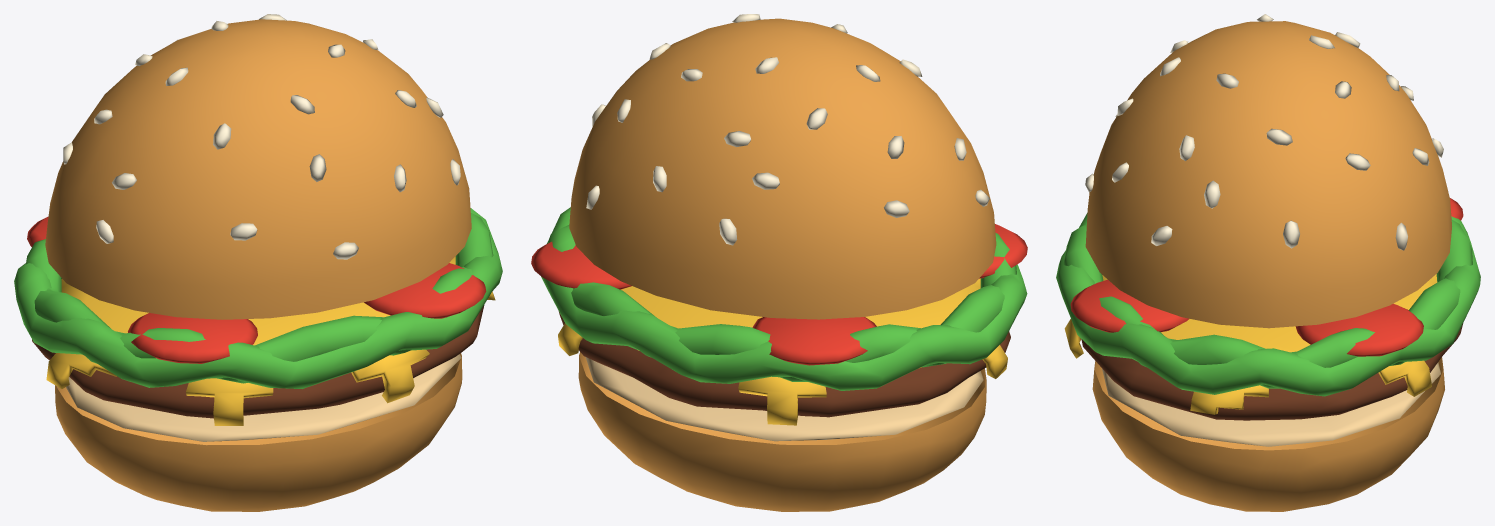
Rendered from tb_mat_burger.glb.
3 renders of one model, left to right at view 1: azimuth 30°, elevation 25°; view 2: azimuth 150°, elevation 25°; view 3: azimuth 270°, elevation 25°, orthographic. The views are drawn at different scales.
Visible parts, largest first — view 1: matkropp; view 2: matkropp; view 3: matkropp.
Part boxes in pixels (x1,y1,x2,y2): matkropp: (14,14,502,511); matkropp: (531,14,1027,511); matkropp: (1056,14,1480,511).
Size of the model in its own units: 0.9322 by 0.9158 by 0.8028.
